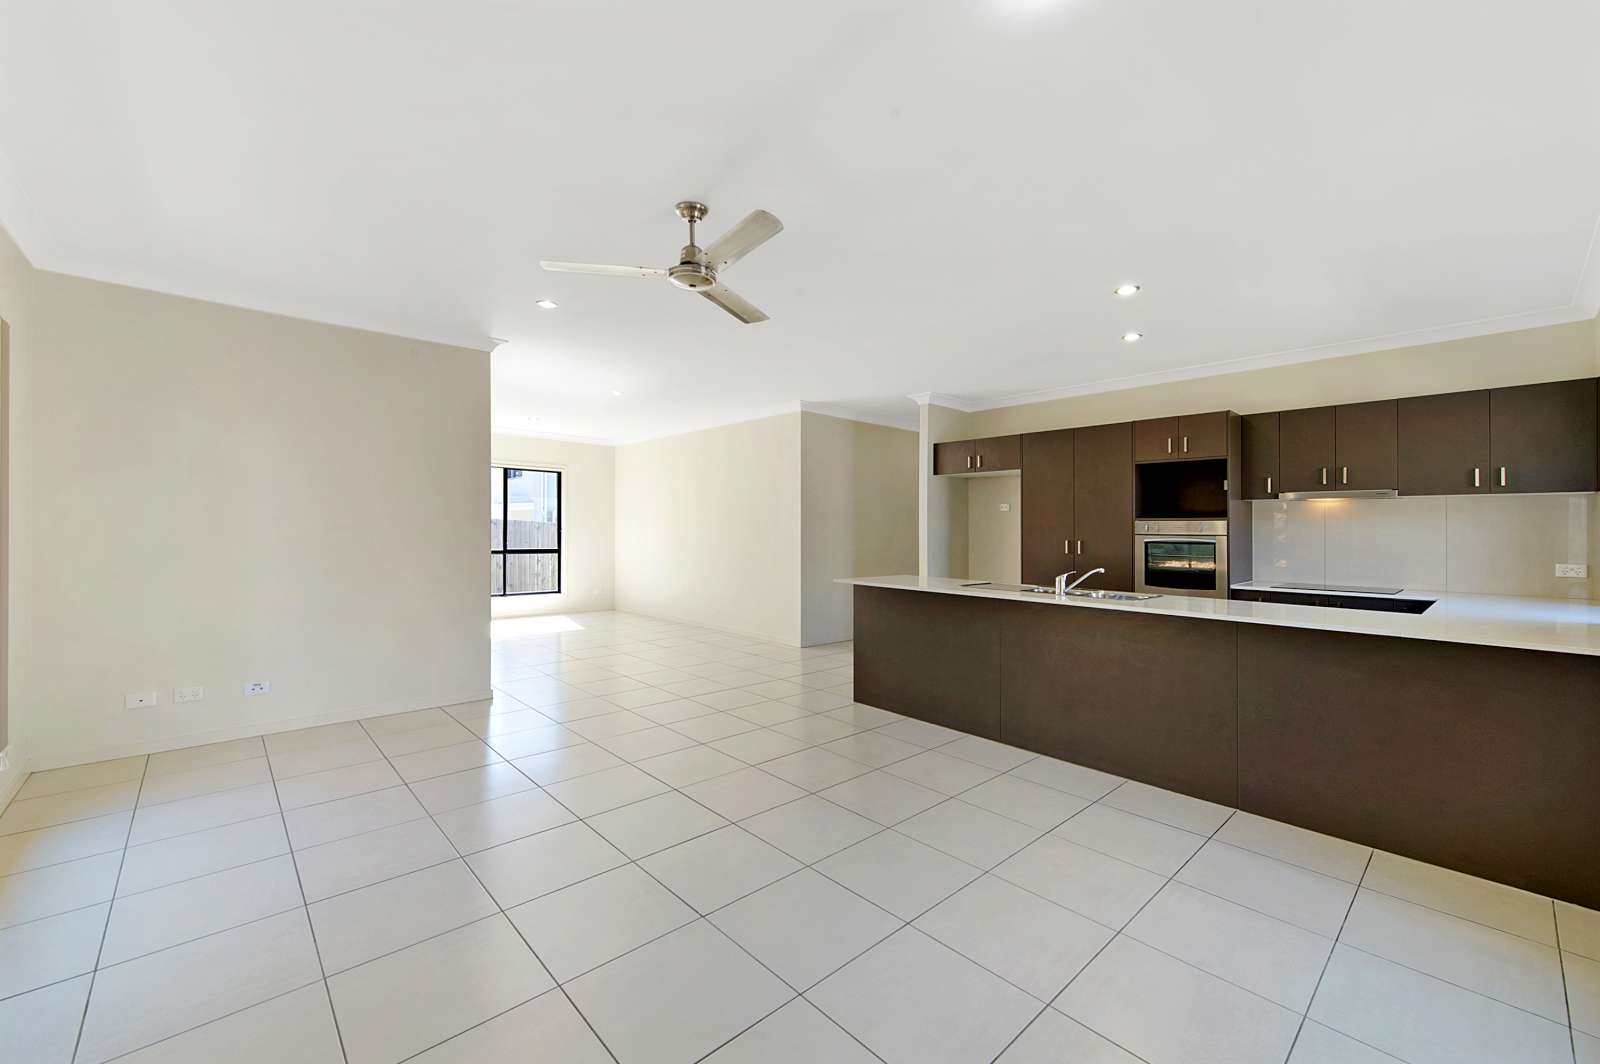ceiling fan: (515, 183, 812, 344)
